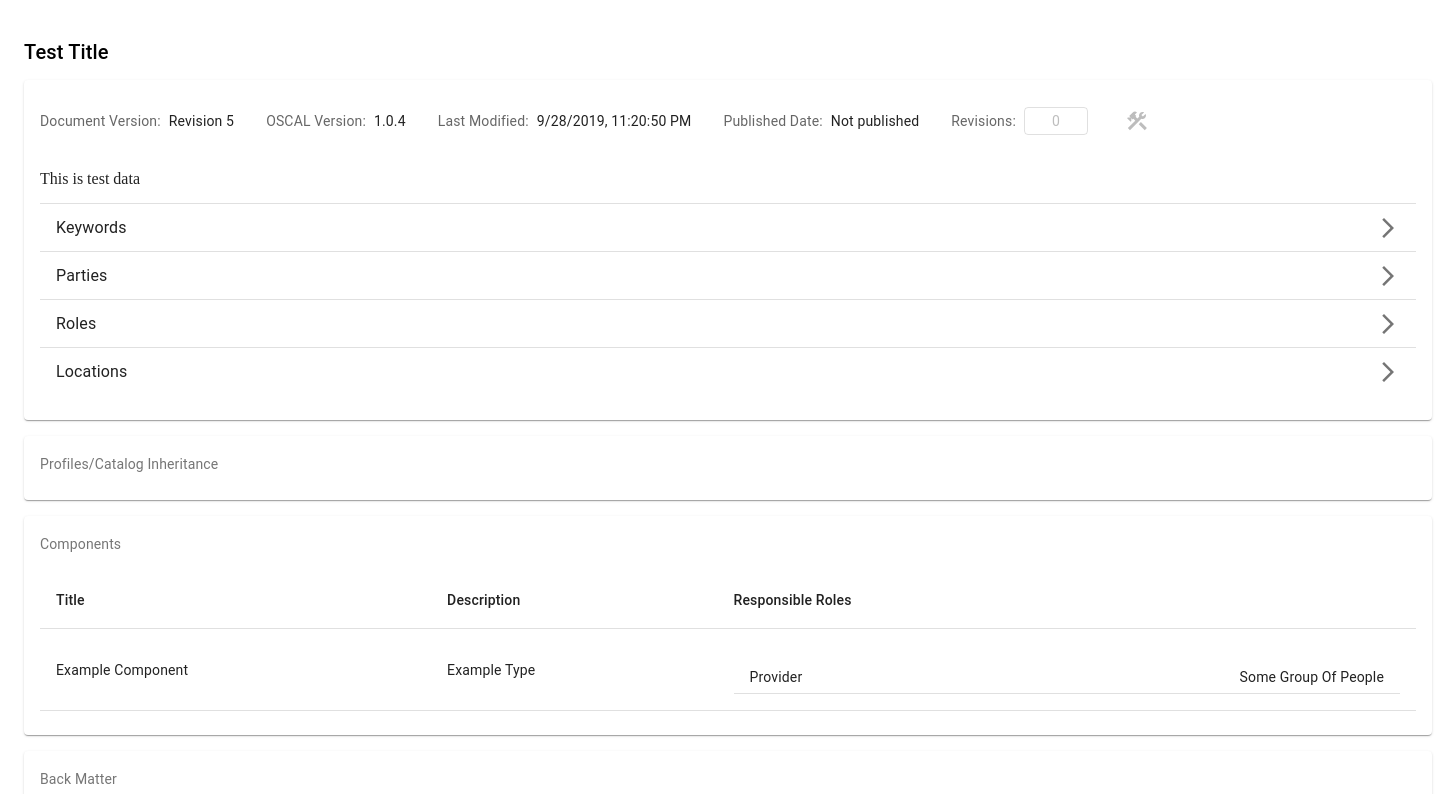
OSCALComponentDefinition › shows component description
The width and height of the screenshot is (1440, 794).
Hover over the text "Example Component" at coordinates (122, 670), box [56,662,188,678]
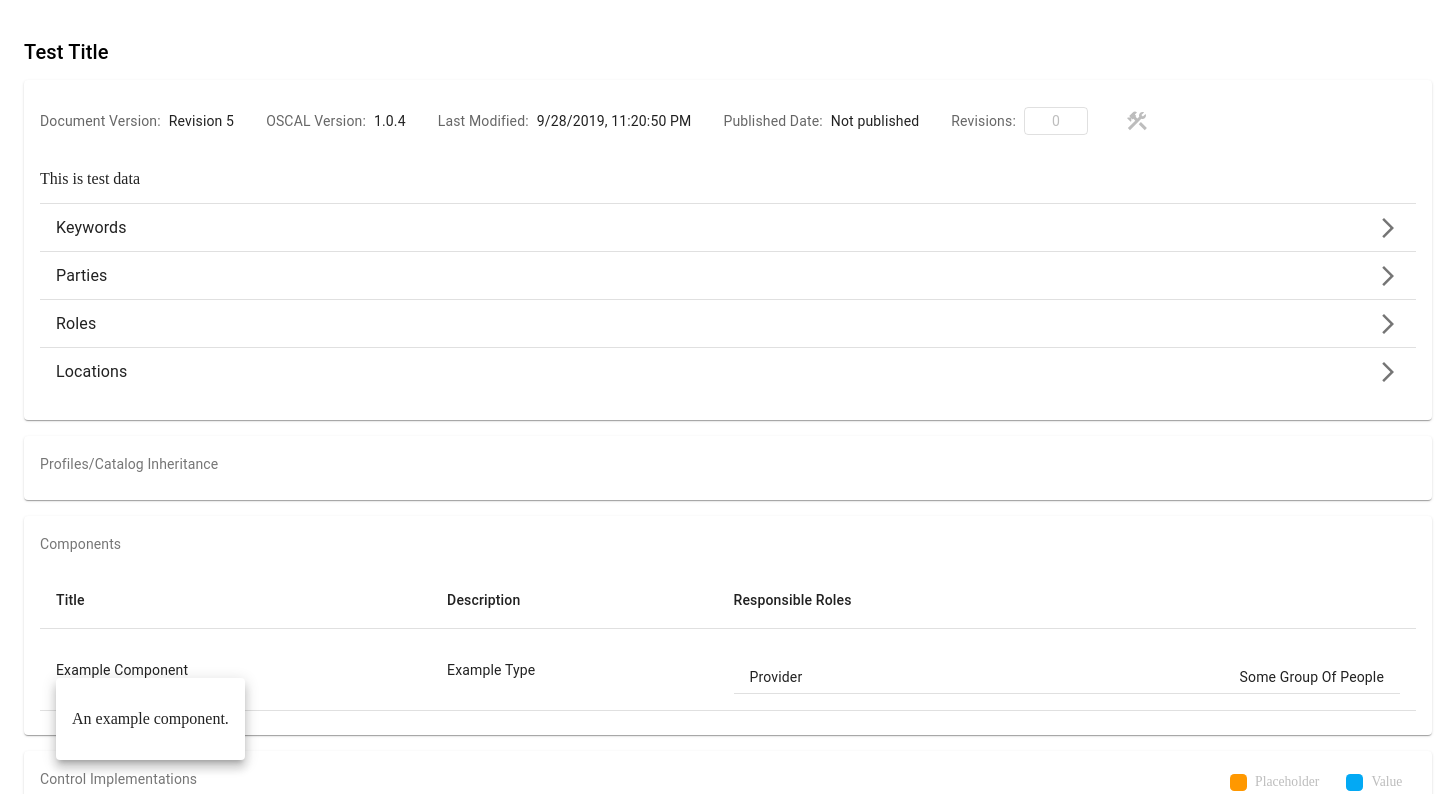
Check: the text "An example component." is shown, box [72,710,229,728]
